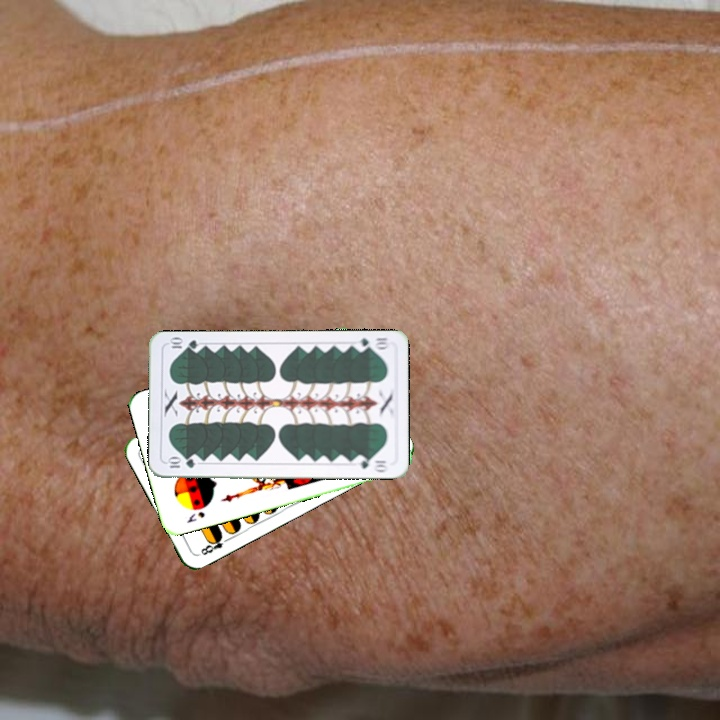E8: (194, 531, 232, 558)
G10: (351, 333, 392, 353), (163, 455, 197, 470)
SK: (183, 507, 208, 526)
